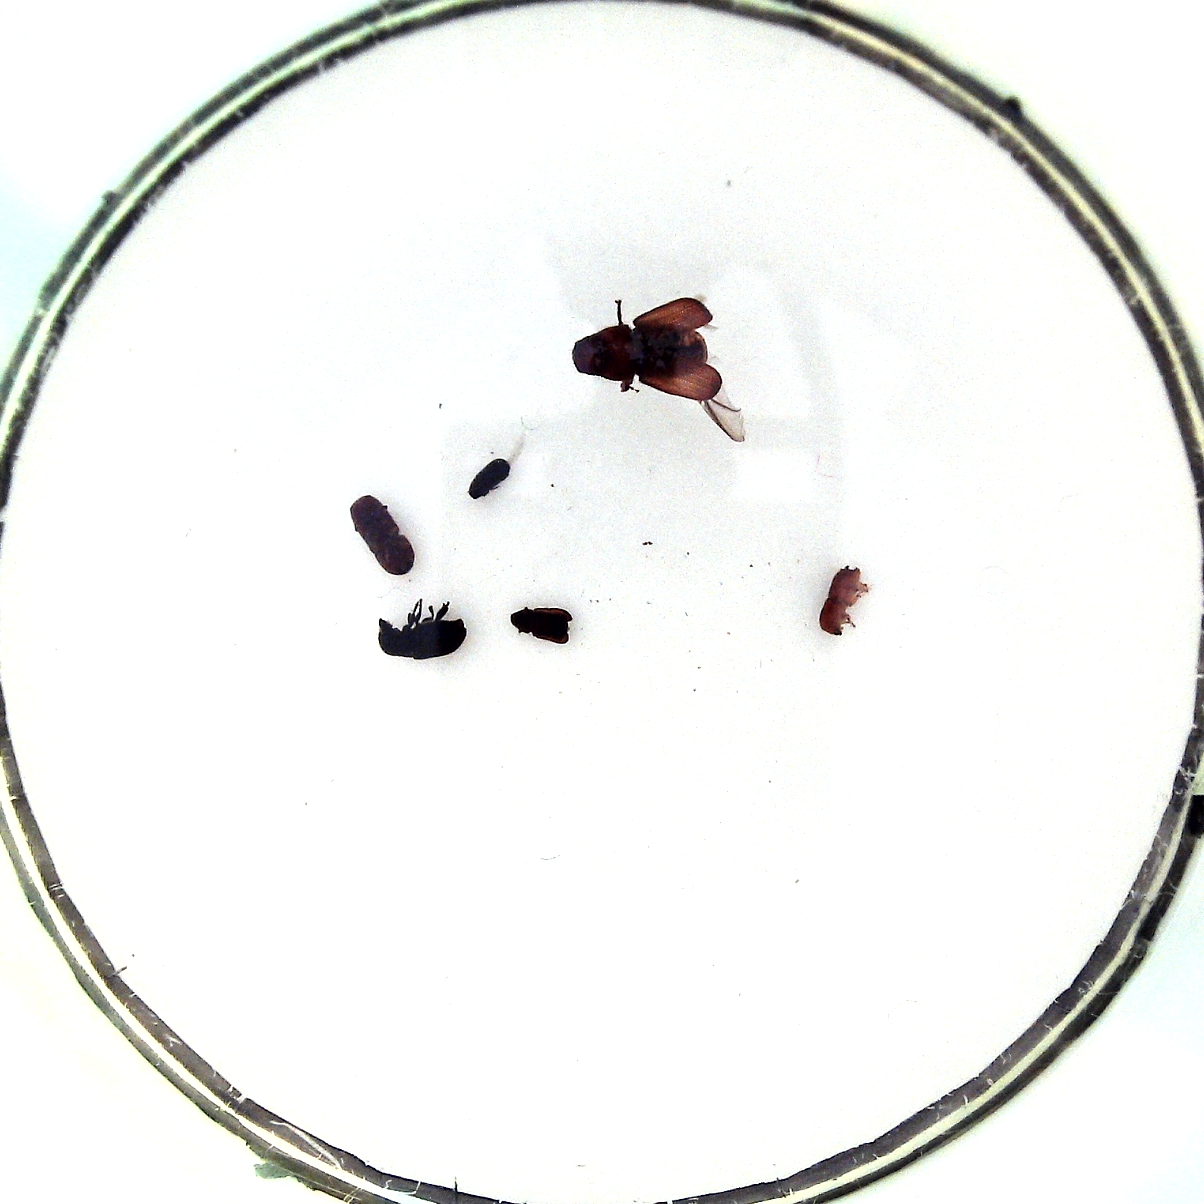Leconte: (572, 322, 707, 381)
acuminatus: (467, 458, 510, 499)
armandi: (377, 619, 466, 662)
coleoptera: (819, 565, 861, 636), (510, 608, 571, 646)
linnaeus: (350, 495, 416, 576)
